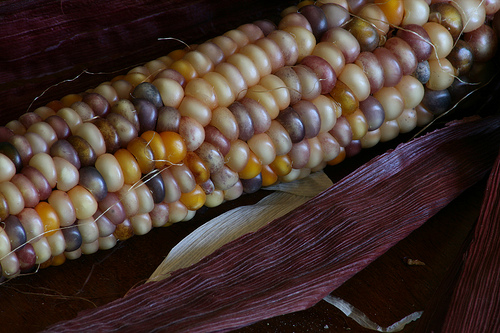corn: (2, 1, 499, 285)
